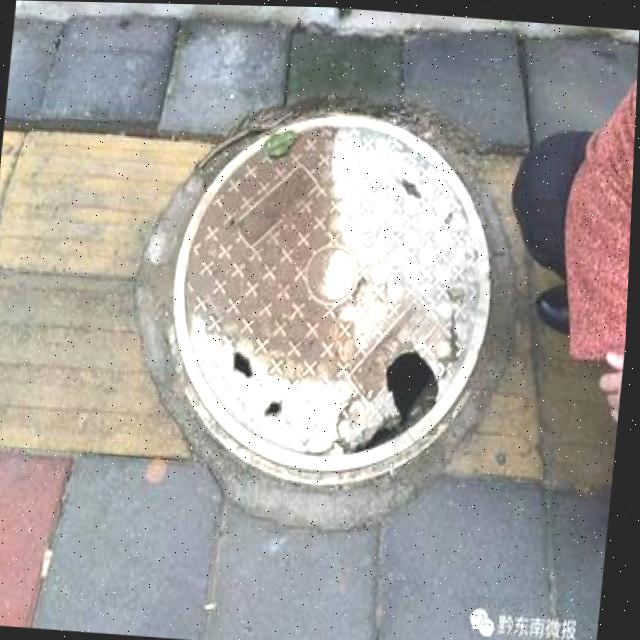manhole: (131, 92, 512, 500)
